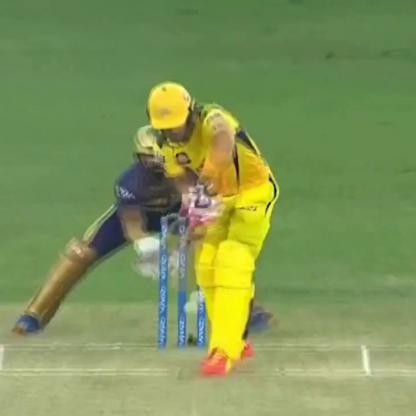ball: (180, 304, 207, 318), (185, 287, 209, 299)
bat: (177, 197, 210, 323)
pitch: (2, 312, 416, 413)
